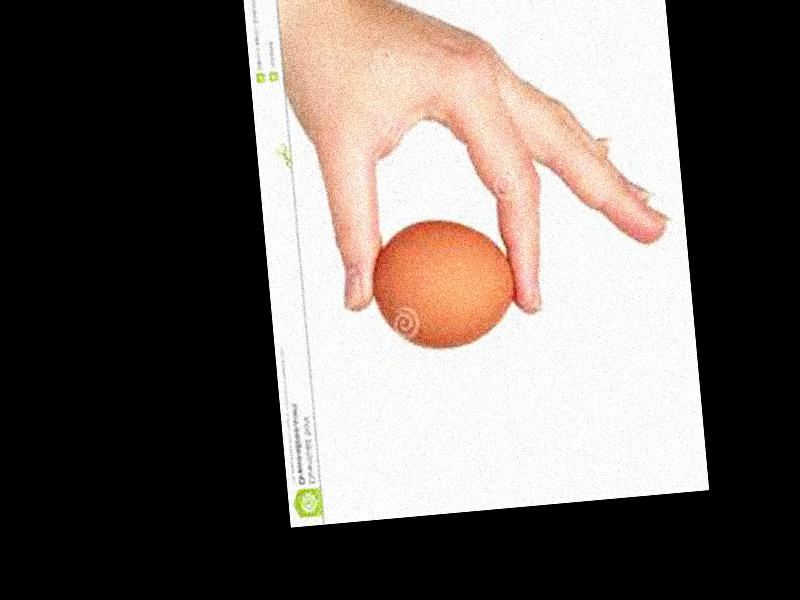Eggs: (366, 211, 520, 356)
